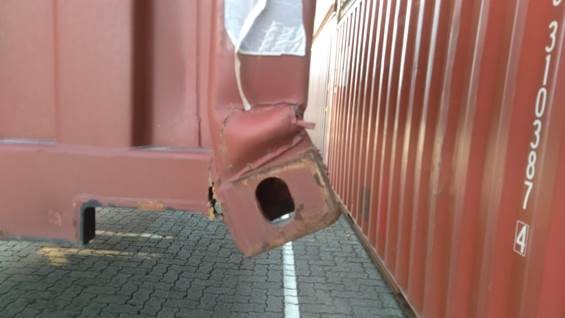dented: (222, 82, 325, 190)
